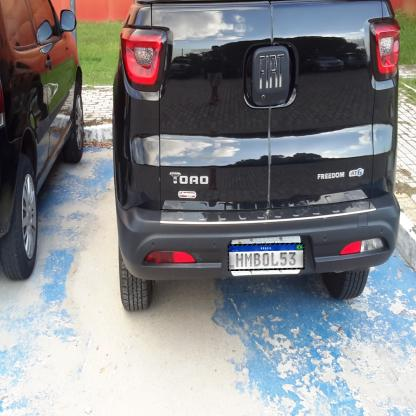PlacaM: (228, 243, 304, 271)
